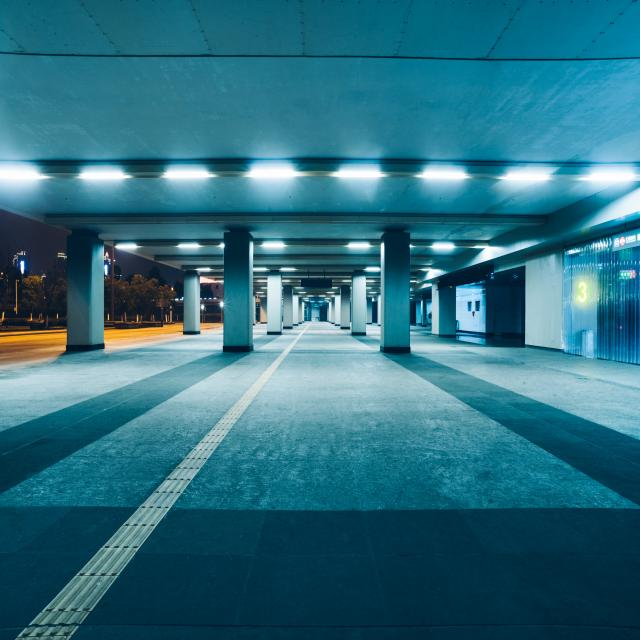pillar: (222, 228, 255, 351), (377, 229, 409, 354), (350, 271, 367, 335), (184, 270, 200, 334), (267, 274, 281, 334)
